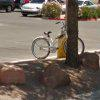Bicycle: (28, 21, 87, 67)
